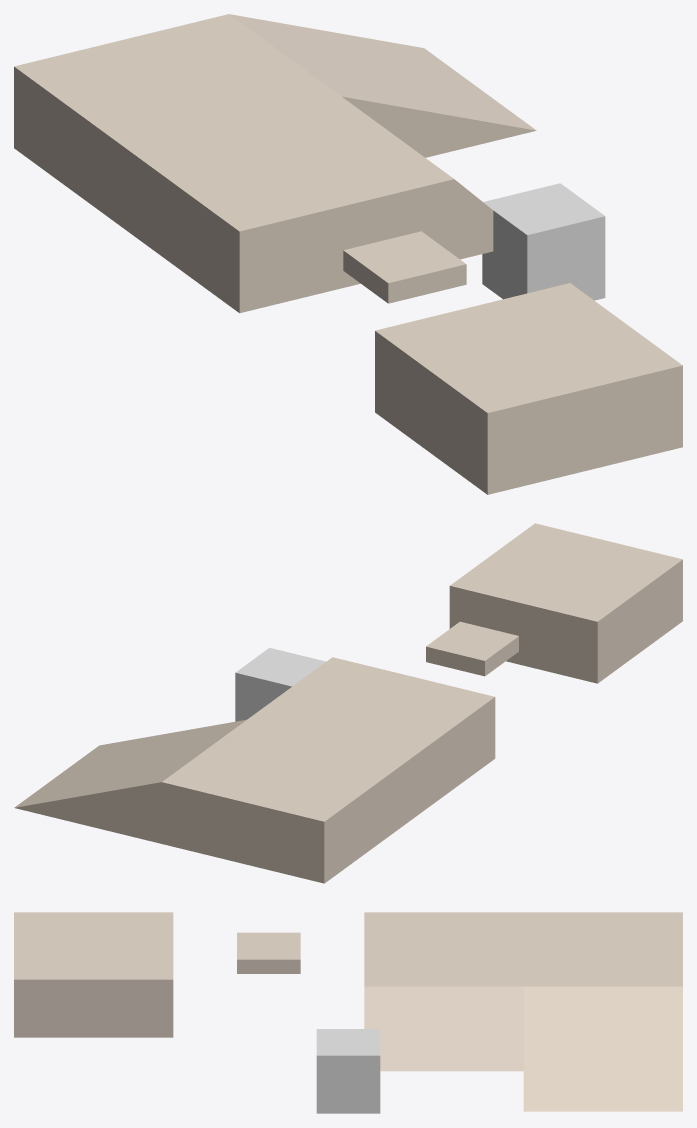
The model's file is bevy_sample.glb.
The picture shows the model from 3 angles, top to bottom: view 1: azimuth 30°, elevation 25°; view 2: azimuth 150°, elevation 25°; view 3: azimuth 270°, elevation 25°; orthographic projection. The views are drawn at different scales.
Visible parts, largest first — view 1: Platform, Platform.001, Ramp.001, Cube, FloatingPlatform, Ramp; view 2: Platform, Platform.001, Ramp.001, Cube, FloatingPlatform; view 3: Platform, Platform.001, Ramp.001, Ramp, Cube, FloatingPlatform.
Boxes of the visible parts, left/top/right/bottom form: Platform: left=14, top=14, right=454, bottom=313; Platform.001: left=375, top=283, right=682, bottom=494; Ramp.001: left=229, top=14, right=536, bottom=157; Cube: left=482, top=183, right=605, bottom=300; FloatingPlatform: left=343, top=231, right=466, bottom=303; Ramp: left=454, top=179, right=493, bottom=259; Platform: left=162, top=657, right=495, bottom=883; Platform.001: left=449, top=523, right=682, bottom=683; Ramp.001: left=14, top=719, right=246, bottom=843; Cube: left=235, top=647, right=325, bottom=721; FloatingPlatform: left=426, top=621, right=518, bottom=676; Platform: left=364, top=912, right=682, bottom=986; Platform.001: left=14, top=912, right=173, bottom=1037; Ramp.001: left=523, top=986, right=682, bottom=1111; Ramp: left=364, top=986, right=523, bottom=1071; Cube: left=316, top=1029, right=380, bottom=1113; FloatingPlatform: left=237, top=932, right=300, bottom=973.
Size of what is drawn, in the model's own units: 10.5 by 3 by 21.
